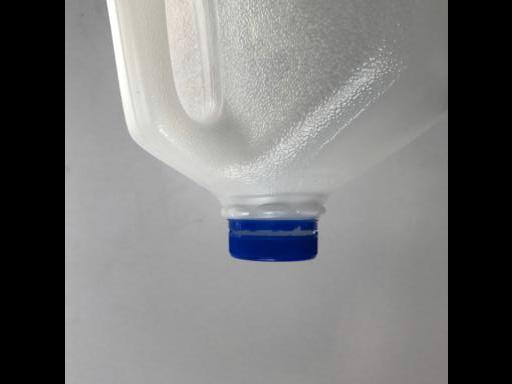HDPE: (88, 0, 447, 263)
plastic: (88, 0, 447, 263)
